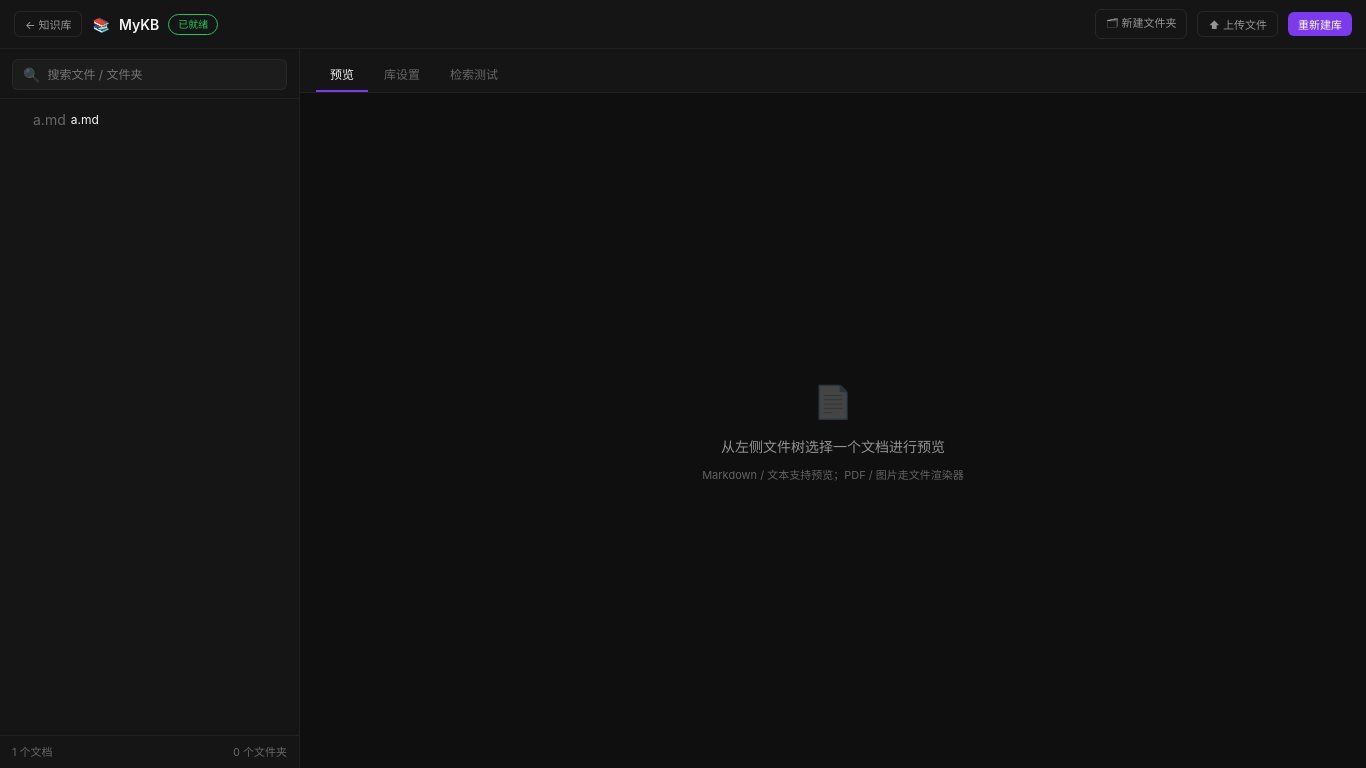
Test: KnowledgeBaseEditorPage · 菜单动作 → IPC（inv-27） › 用例59 右键「重命名」→ 树行进入内联重命名输入态
Right-click the element with test id "kb-node-a.md" at {"x": 66, "y": 120}, box [33,111,99,128]
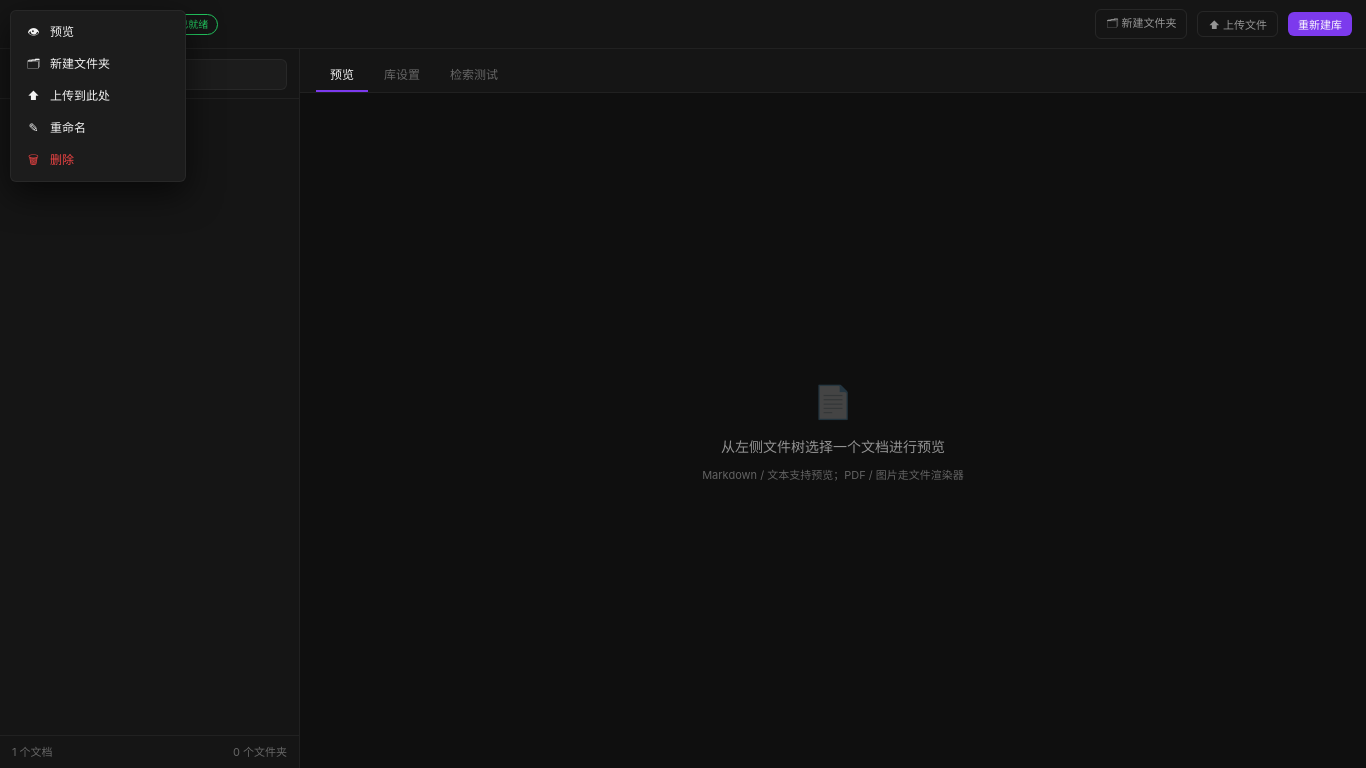
Click the text "重命名" at {"x": 68, "y": 128}, box [50,119,86,137]
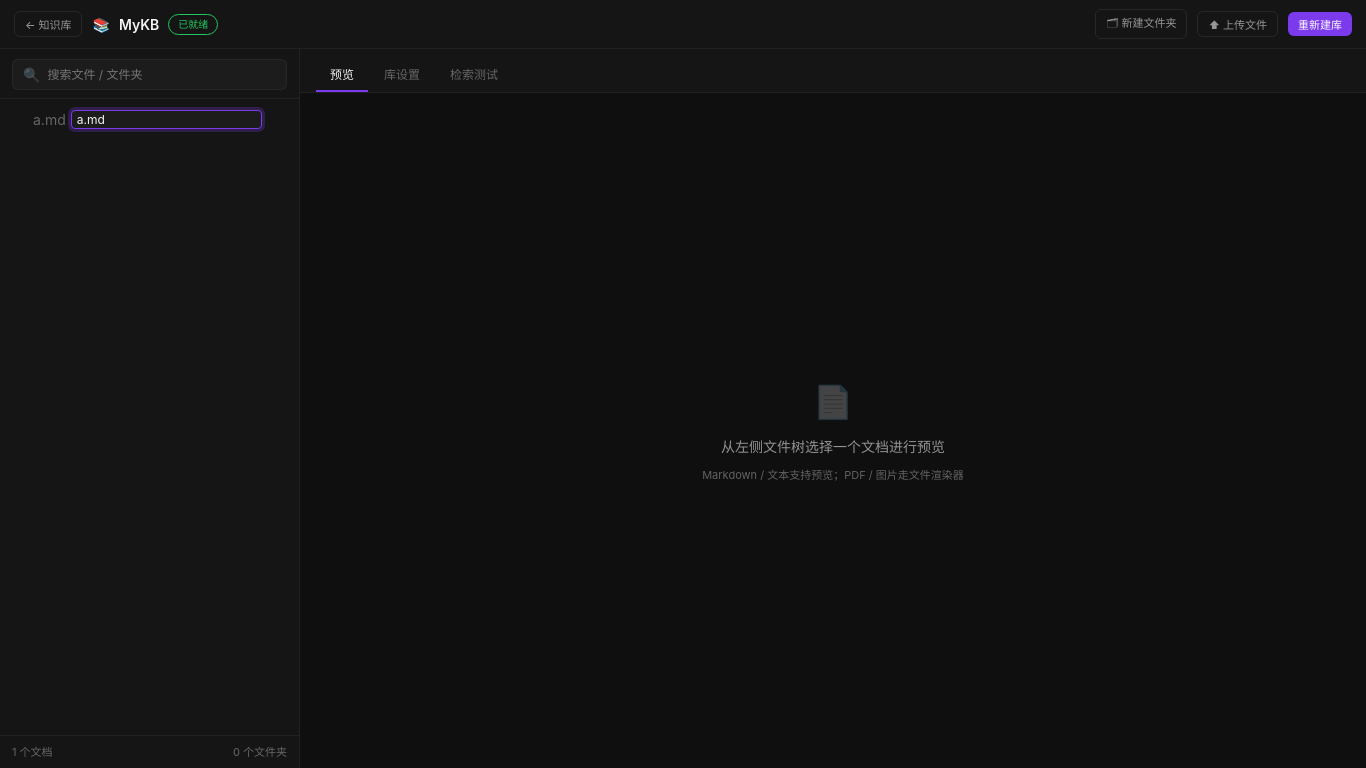
Check: the field with test id "kb-rename-input-a.md" is shown, box [71,110,262,129]
